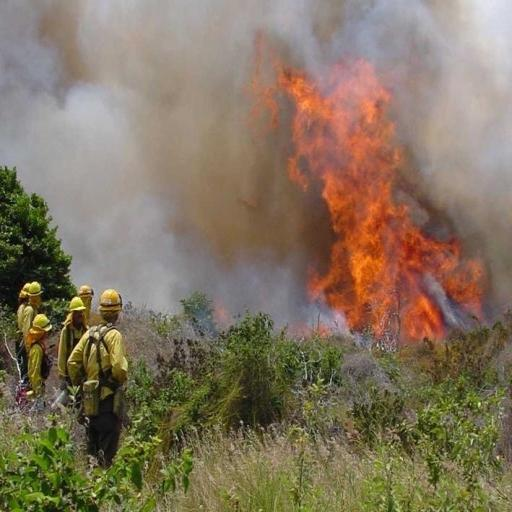fire: (273, 60, 481, 338), (406, 293, 444, 338), (214, 299, 229, 328)
smoke: (0, 0, 511, 321)
